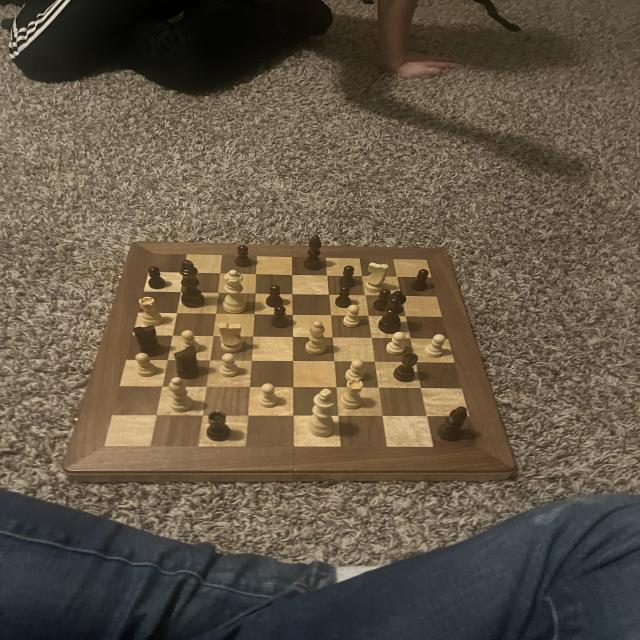bishop: (433, 404, 469, 442), (301, 232, 327, 273)
black-bishop: (179, 258, 207, 310)
black-king: (172, 346, 204, 381), (132, 324, 163, 356)
black-knight: (335, 262, 361, 288), (267, 304, 294, 328), (264, 282, 288, 308), (144, 265, 168, 290), (409, 267, 433, 292), (232, 244, 255, 270), (332, 285, 355, 308), (371, 288, 393, 312)
black-pawn: (376, 288, 409, 334)
black-queen: (391, 352, 422, 386), (204, 411, 234, 443)
black-rook: (165, 376, 196, 414), (302, 320, 332, 357)
white-bishop: (304, 388, 340, 439)
white-king: (217, 321, 248, 355), (364, 262, 392, 293)
white-knight: (132, 351, 160, 378), (256, 381, 280, 411), (216, 352, 242, 378), (422, 333, 448, 358), (386, 329, 410, 356), (180, 330, 203, 355), (342, 303, 363, 328), (343, 358, 364, 381)
white-pawn: (220, 269, 250, 315)
white-queen: (337, 377, 365, 413), (137, 296, 166, 328)
